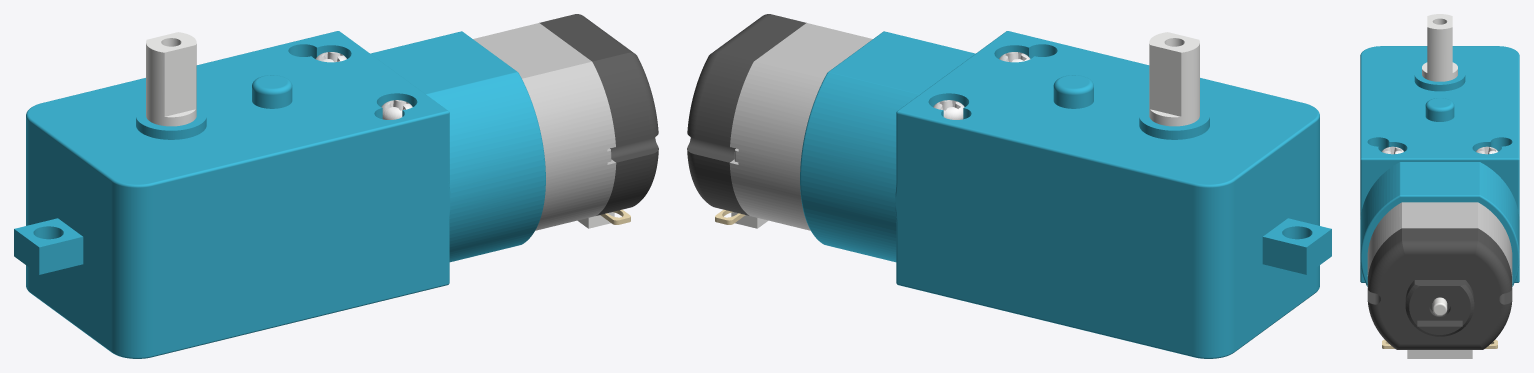
Rendered from ohstem_tt_motor.glb.
The picture shows the model from 3 angles, left to right: view 1: azimuth 30°, elevation 25°; view 2: azimuth 150°, elevation 25°; view 3: azimuth 270°, elevation 25°; orthographic projection. The views are drawn at different scales.
Parts seen in each view (by area): view 1: Node2, Node6, Node3, Node4, Node1; view 2: Node2, Node6, Node3, Node4, Node1; view 3: Node2, Node3, Node6, Node4, Node1, Node7, Node5.
Part boxes in pixels (<box>): Node2: <box>14,31,545,358</box>; Node6: <box>473,23,616,230</box>; Node3: <box>539,14,658,215</box>; Node4: <box>146,32,614,228</box>; Node1: <box>315,52,412,119</box>; Node2: <box>800,31,1331,358</box>; Node6: <box>729,23,872,230</box>; Node3: <box>687,14,806,215</box>; Node4: <box>731,32,1199,228</box>; Node1: <box>933,52,1030,119</box>; Node2: <box>1360,46,1519,286</box>; Node3: <box>1367,228,1512,349</box>; Node6: <box>1367,202,1512,287</box>; Node4: <box>1407,14,1472,358</box>; Node1: <box>1381,146,1498,154</box>; Node7: <box>1432,297,1447,315</box>; Node5: <box>1382,339,1497,348</box>.
Size of the model in its own units: 70 by 29 by 22.
